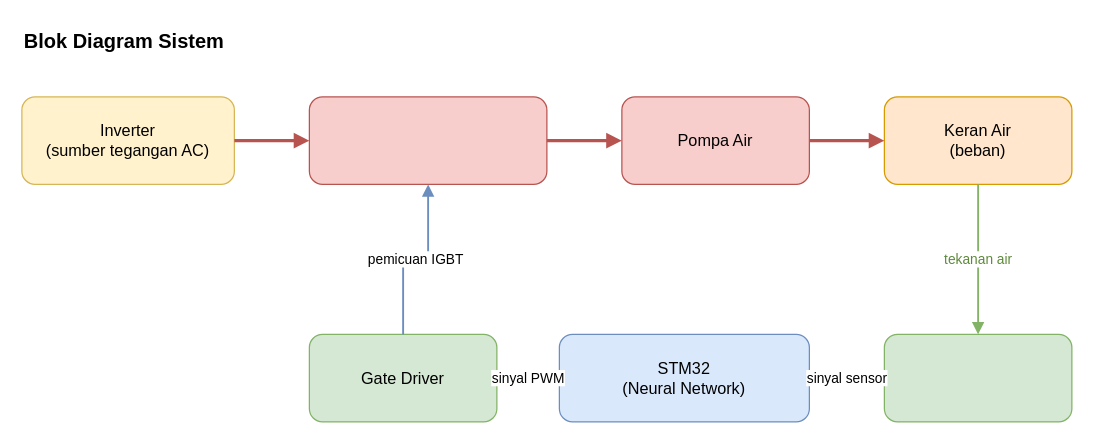
The diagram is 1094 pixels wide and 444 high, and some of its shapes have lost their labels. The shapes that lost their labels are listed below. From the top down, each one's centre as x and y in pixels, then its label:
(x=427, y=140): PWM AC Chopper (diode bridge + 2 IGBT)
(x=977, y=377): Sensor Tekanan
